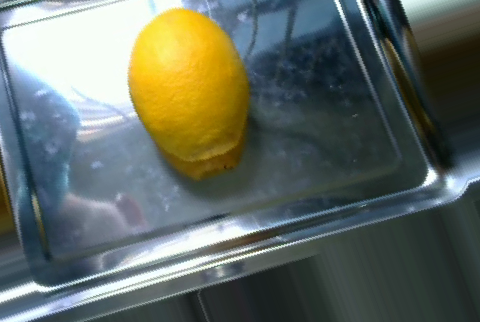Orange: (126, 8, 249, 162)
